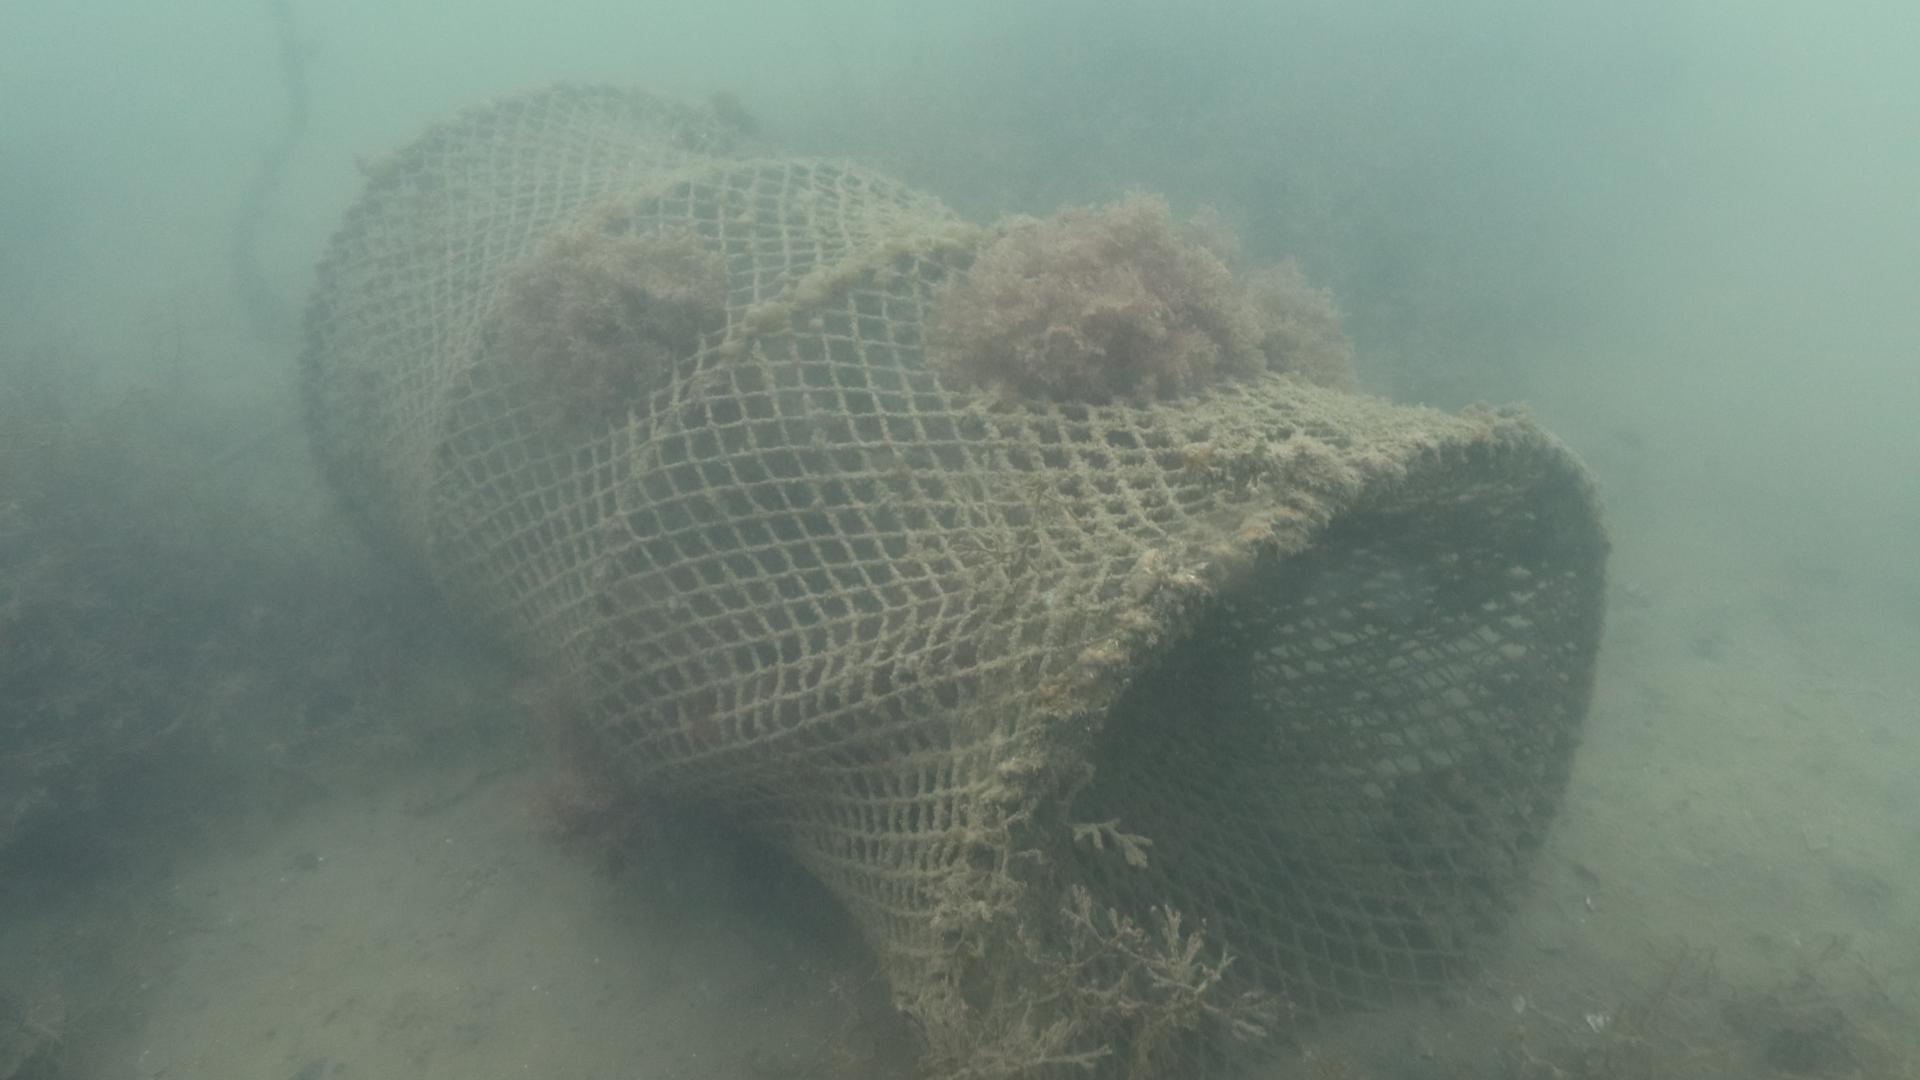spring fish trap: (297, 78, 1611, 1080)
